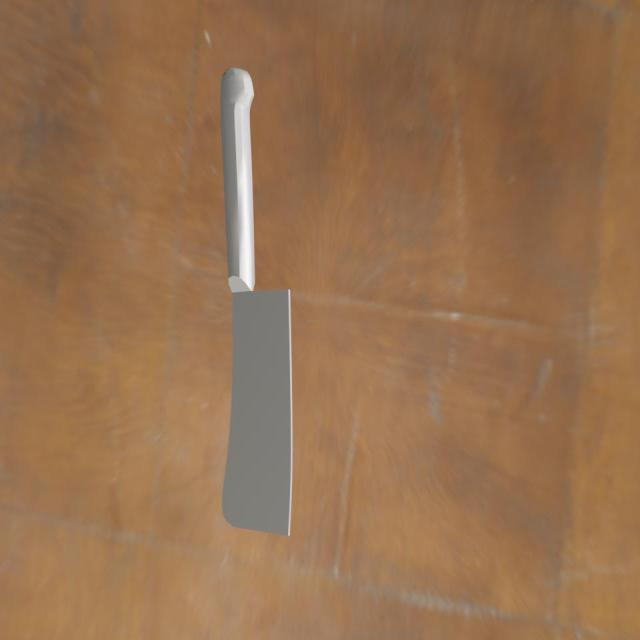knife: (215, 58, 253, 291)
